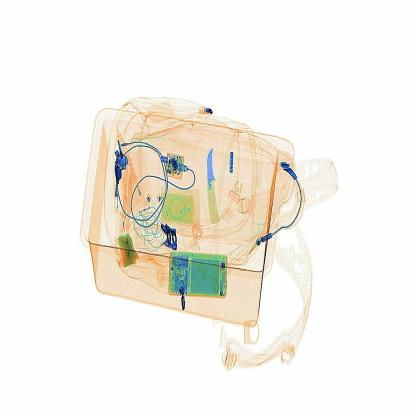wrench: (198, 147, 222, 230)
